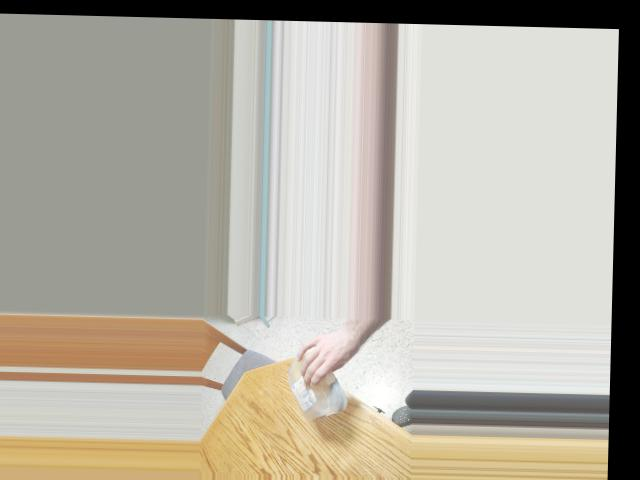cheese: (289, 356, 331, 414)
